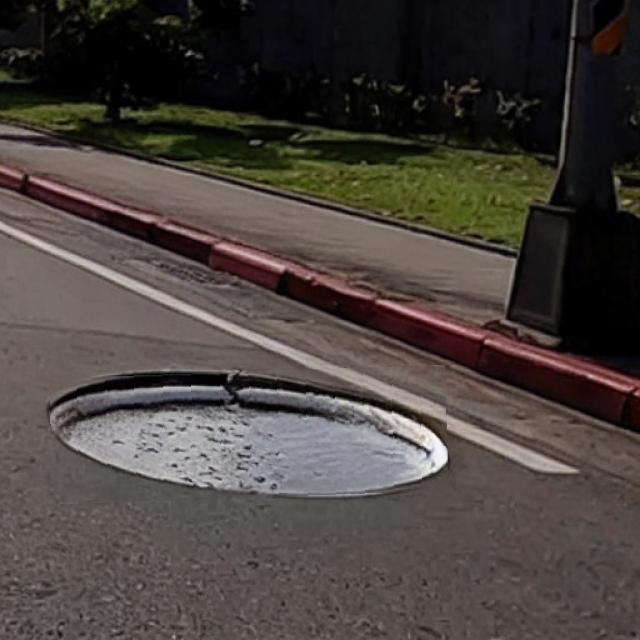puddle: (51, 369, 449, 502)
